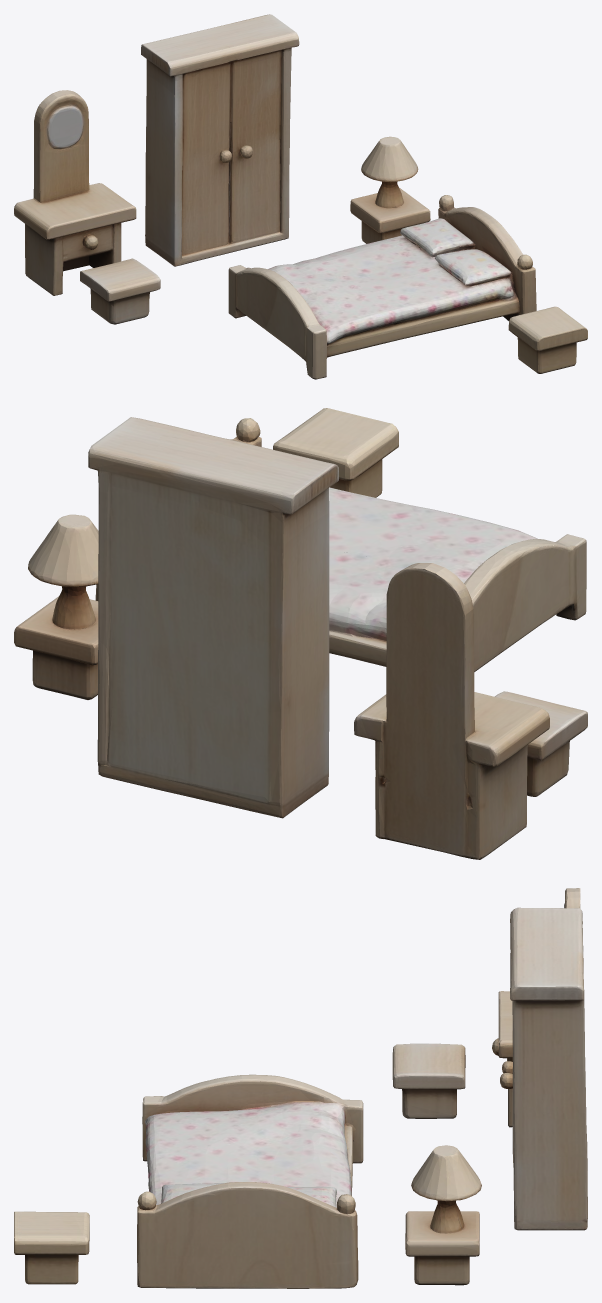
Rendered from bedroom_source.glb.
The picture shows the model from 3 angles, top to bottom: view 1: azimuth 30°, elevation 25°; view 2: azimuth 150°, elevation 25°; view 3: azimuth 270°, elevation 25°; orthographic projection. The views are drawn at different scales.
Parts seen in each view (by area): view 1: world; view 2: world; view 3: world.
Part boxes in pixels (<box>): world: <box>14,14,587,379</box>; world: <box>14,408,587,859</box>; world: <box>14,888,587,1288</box>.
Size of the model in its own units: 0.8534 by 0.4925 by 1.
Materials: 1 (1 with a texture image).
